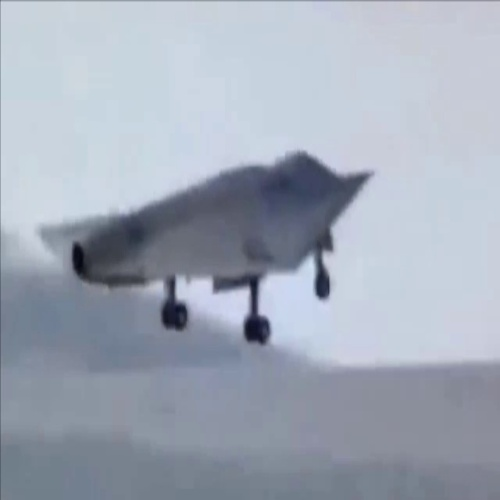uav: (36, 152, 378, 346)
